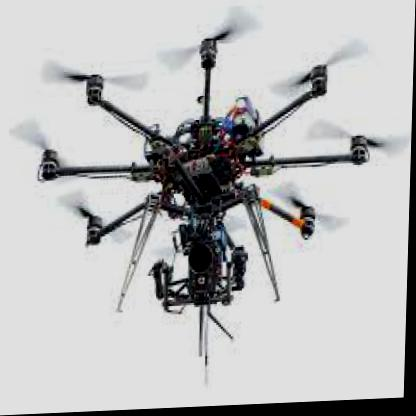UAS: (4, 2, 414, 397)
